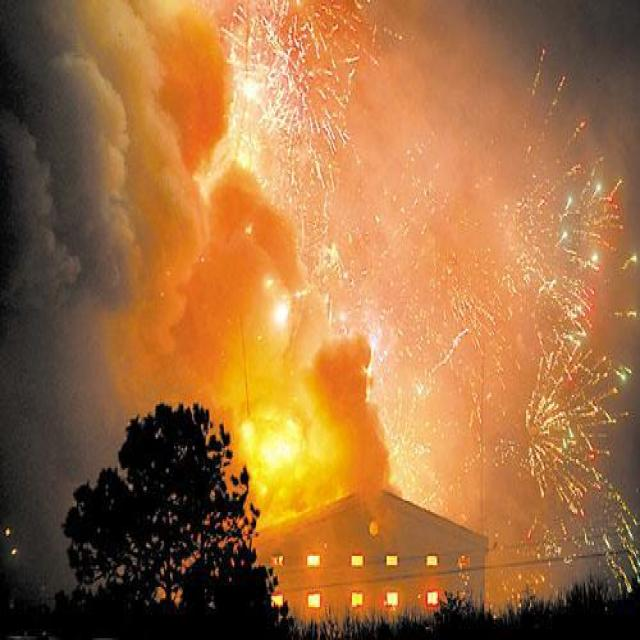other: (242, 0, 390, 168)
smoke: (234, 337, 434, 607)
